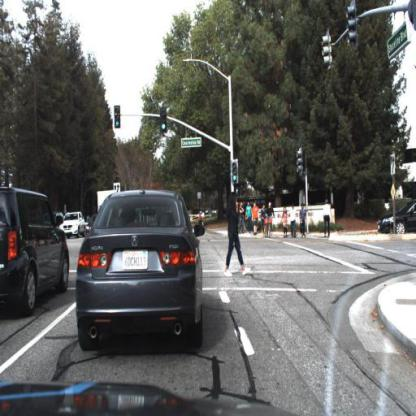biker: (263, 200, 277, 243)
car: (75, 191, 207, 352), (1, 183, 70, 320), (378, 203, 416, 238)
pedestrian: (221, 190, 252, 279), (322, 194, 332, 239), (288, 203, 300, 240), (299, 201, 309, 239), (281, 203, 291, 239), (246, 202, 254, 238), (198, 206, 208, 234), (239, 201, 246, 235)
trafficLight: (157, 104, 168, 136), (230, 158, 241, 190), (111, 104, 121, 131)
